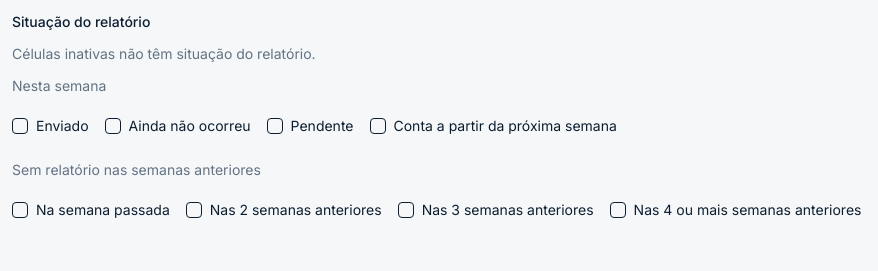
GroupedMultiChoiceFilter (P85, UX-10, UX-28) › marcar opções dos dois subgrupos guarda os valores na ordem das opções
The width and height of the screenshot is (878, 271).
Click the checkbox named "Na semana passada" next to "Na semana passada". click: (20, 210)
box: [12,202,28,218]
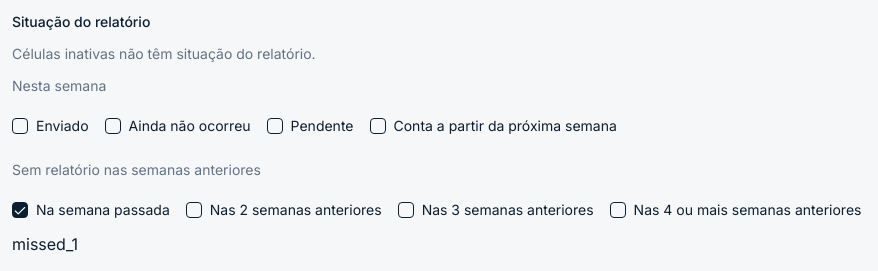
Click the checkbox named "Pendente" next to "Pendente". click: (275, 126)
box: [267,118,283,134]
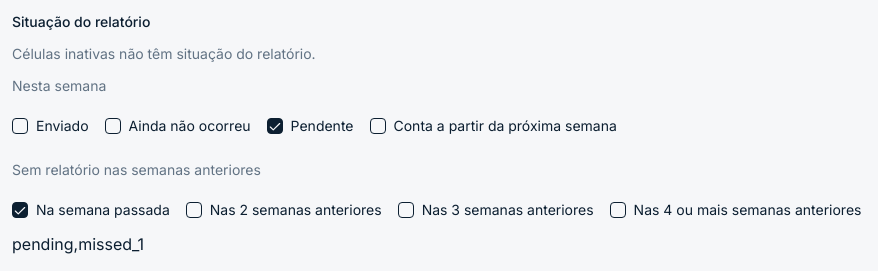
Now the text with test id "values" reads "pending,missed_1", box [12,234,144,254]
Click the checkbox named "Pendente" next to "Pendente". click: (275, 126)
box: [267,118,283,134]
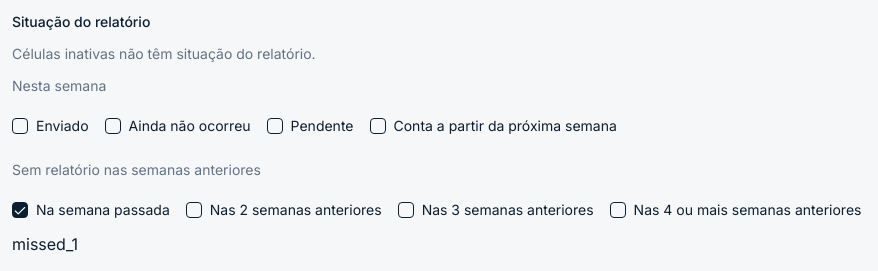
Now the text with test id "values" reads "missed_1", box [12,234,78,254]
